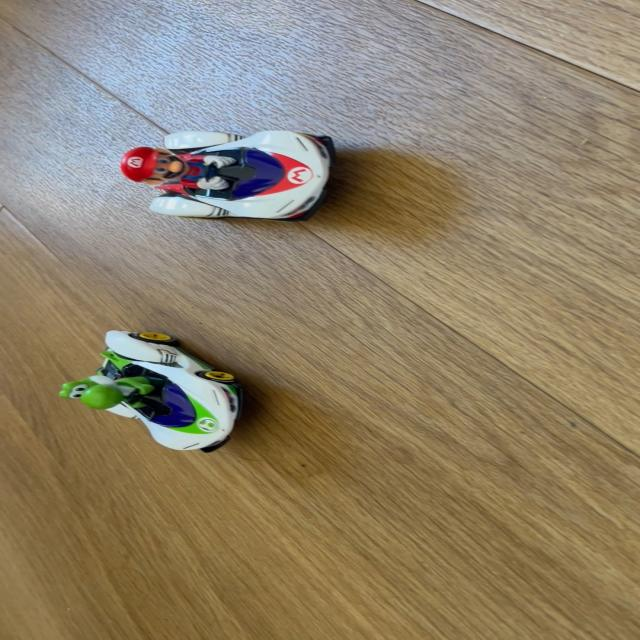mario: (118, 125, 348, 228)
yoshi: (44, 321, 255, 458)
